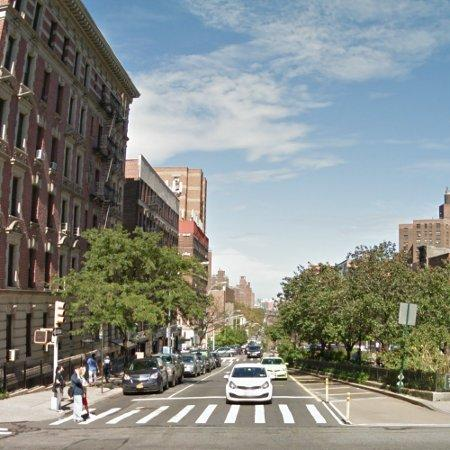crosswalks: (46, 402, 331, 428)
